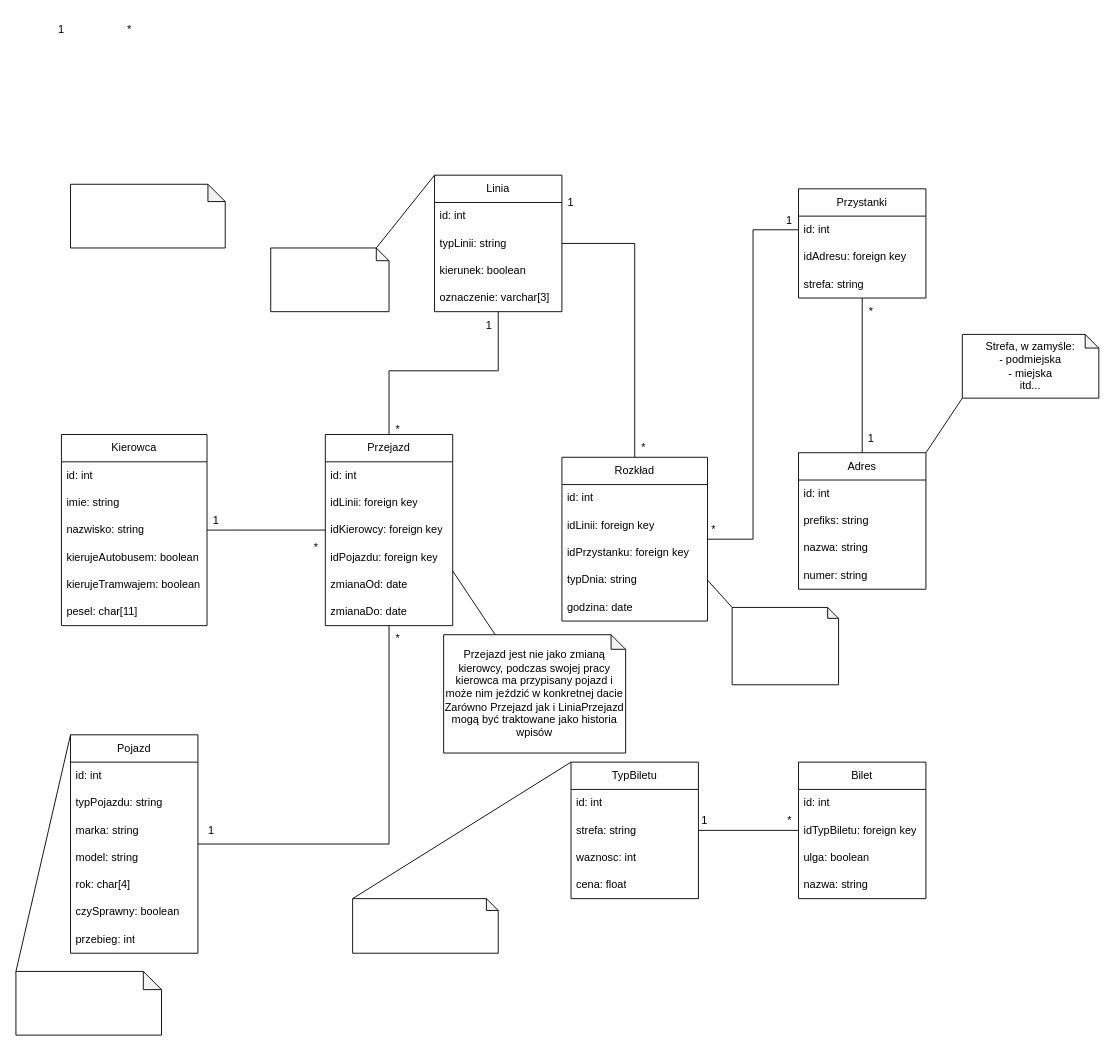
The diagram is 1115 pixels wide and 1051 high, and some of its shapes have lost their labels. Here are the shapes that lost their labels. From the top down, the centre of each, then its label:
[147,215]: Nie ma typu "string" w SQL, tam warto wstawić varchar(n)
[329,279]: Kierunek można potraktować jako zmienną typu boolean, ale też i varchar
[785,646]: Podzial TypDnia: - roboczy - sobota - niedziela - święta
[425,925]: Ważność jako określenie, ile minut ważny jest bilet
[88,1003]: Stan: działa, jeździ - true nie działa, nie jeździ - false
